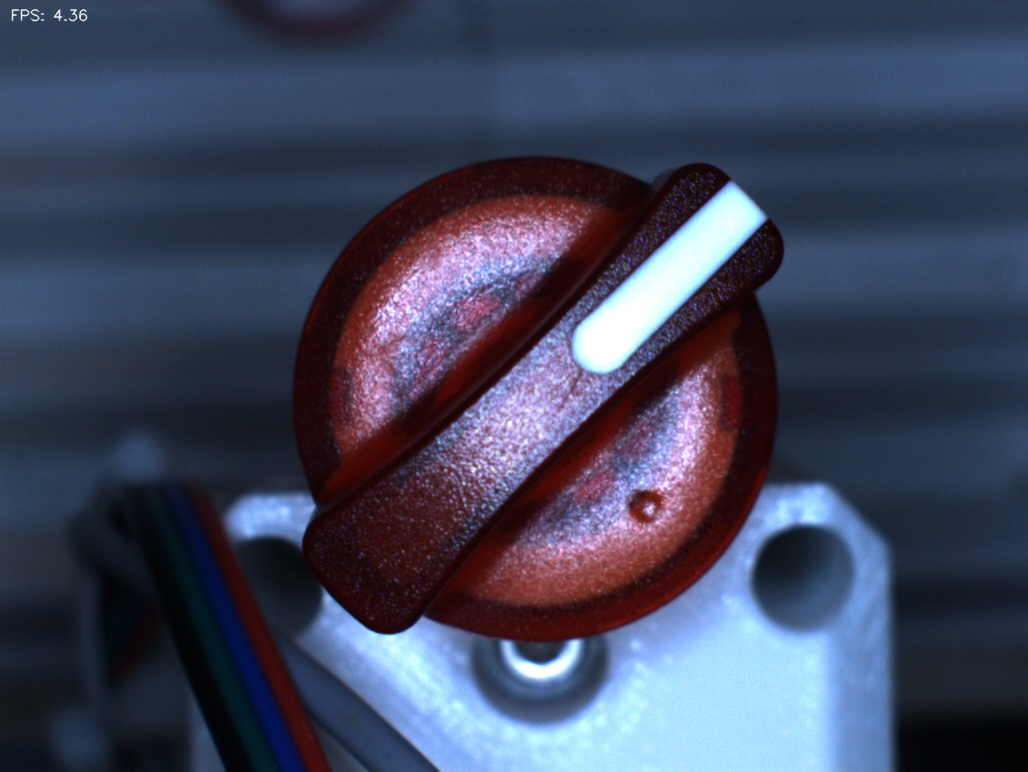Choc: (614, 475, 678, 539)
